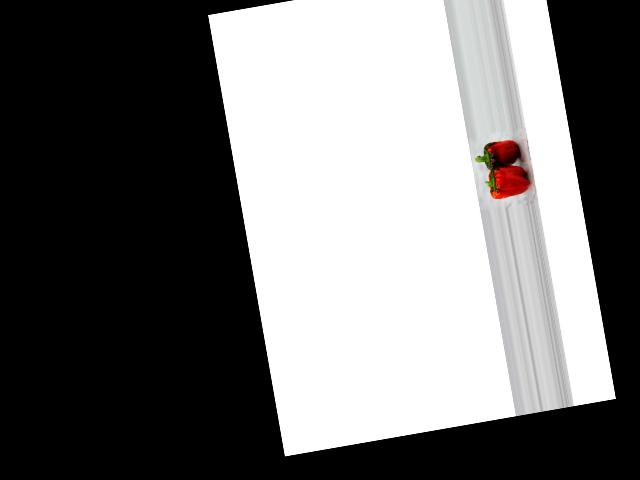bell_pepper: (480, 162, 532, 206)
